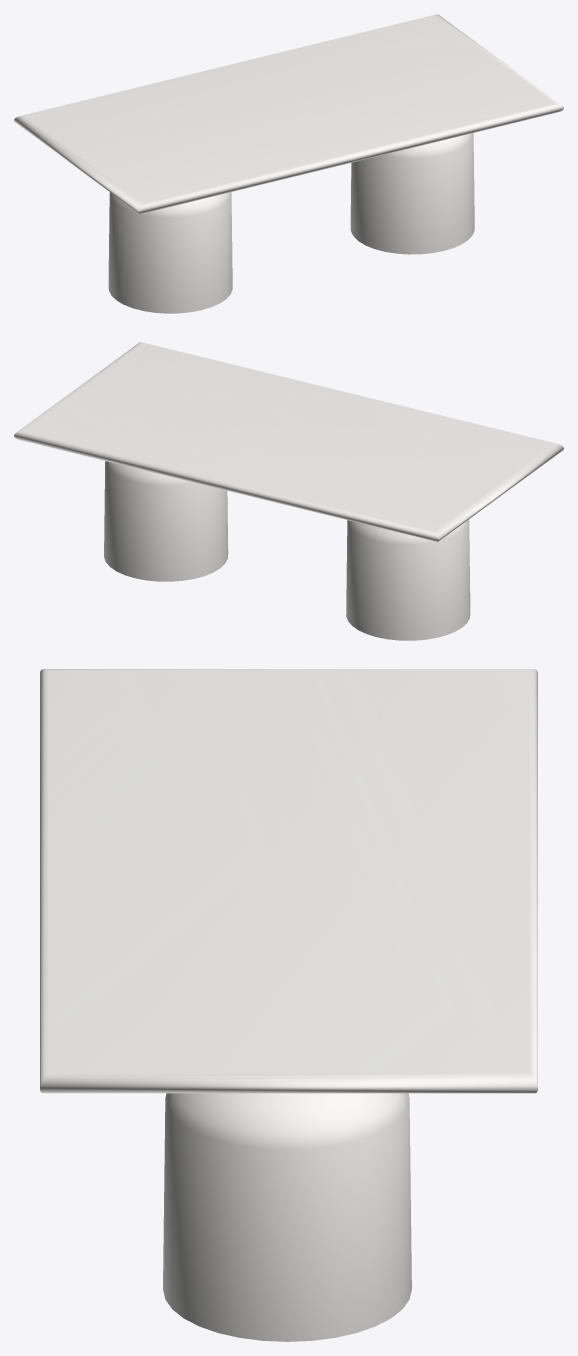
Rendered from purewhite_recta_round_tornado.glb.
3 views of the same model, one above another, from view 1: azimuth 30°, elevation 25°; view 2: azimuth 150°, elevation 25°; view 3: azimuth 270°, elevation 25° (orthographic). The views are drawn at different scales.
Parts seen in each view (by area): view 1: round_recta, tornado; view 2: round_recta, tornado; view 3: round_recta, tornado.
Boxes of the visible parts, bbox=[...] form: round_recta: bbox=[14, 14, 563, 213]; tornado: bbox=[108, 133, 474, 313]; round_recta: bbox=[14, 342, 563, 541]; tornado: bbox=[104, 461, 470, 640]; round_recta: bbox=[40, 669, 537, 1093]; tornado: bbox=[163, 1093, 411, 1341].
Size of the model in its own units: 7.5 by 2.5 by 3.8.
Materials: 1 (1 with a texture image).
